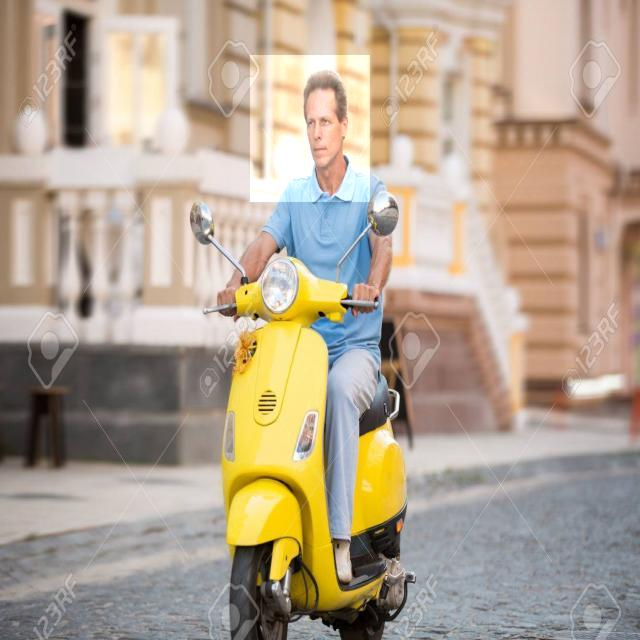No_Helmet: (250, 55, 370, 202)
